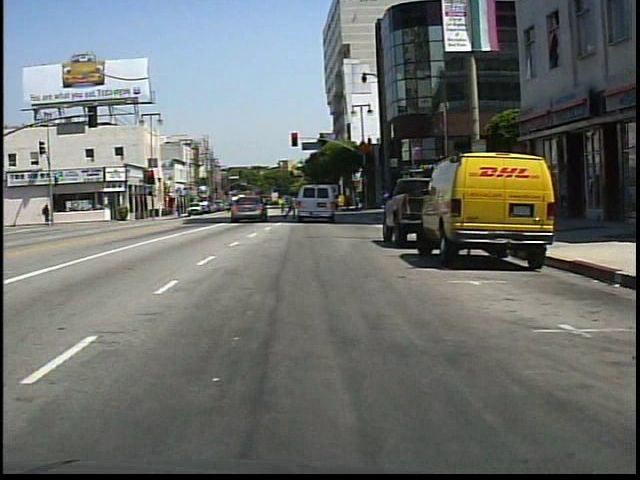person: (282, 191, 300, 223), (276, 194, 291, 218), (42, 204, 52, 224)
